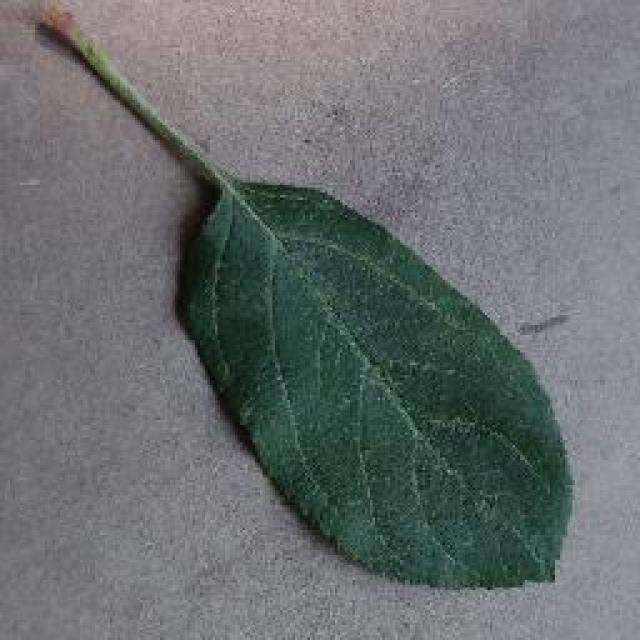apple healthy: (34, 0, 577, 592)
